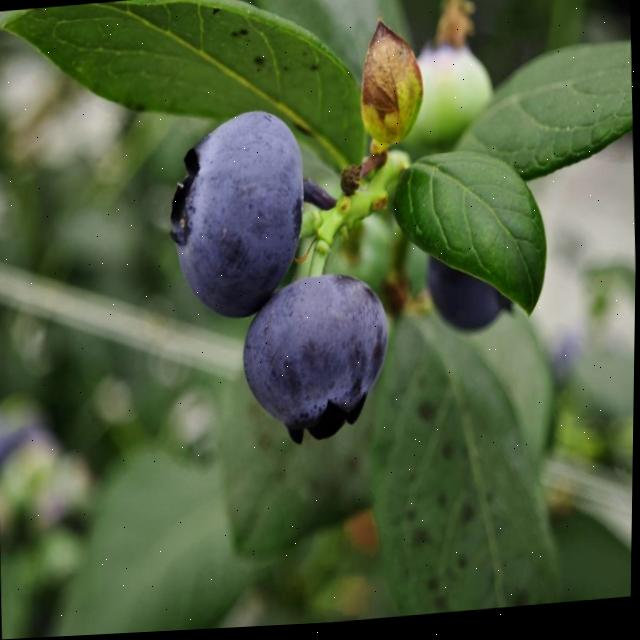RipeBlueBerry: (168, 106, 308, 328), (240, 269, 392, 451)
UnripeBlueBerry: (383, 37, 494, 162)
